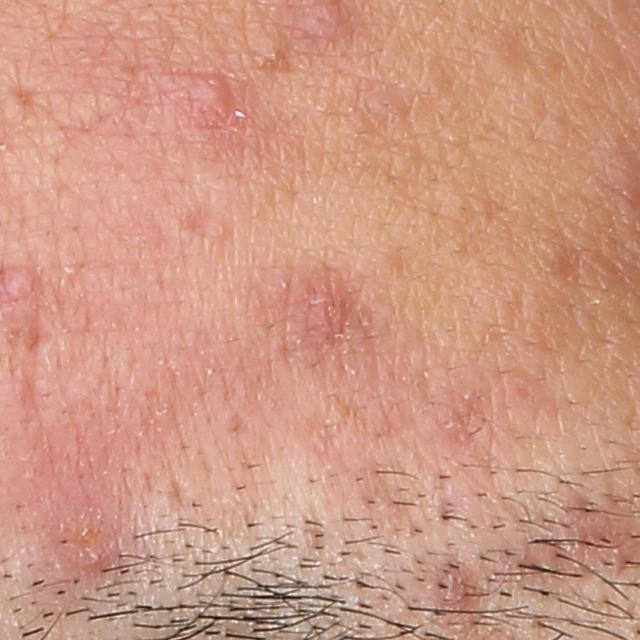atrophic_scar: (166, 471, 189, 515)
comedo: (249, 35, 292, 72)
papule: (171, 70, 246, 156), (47, 500, 115, 568), (302, 280, 348, 337), (1, 262, 41, 304)
